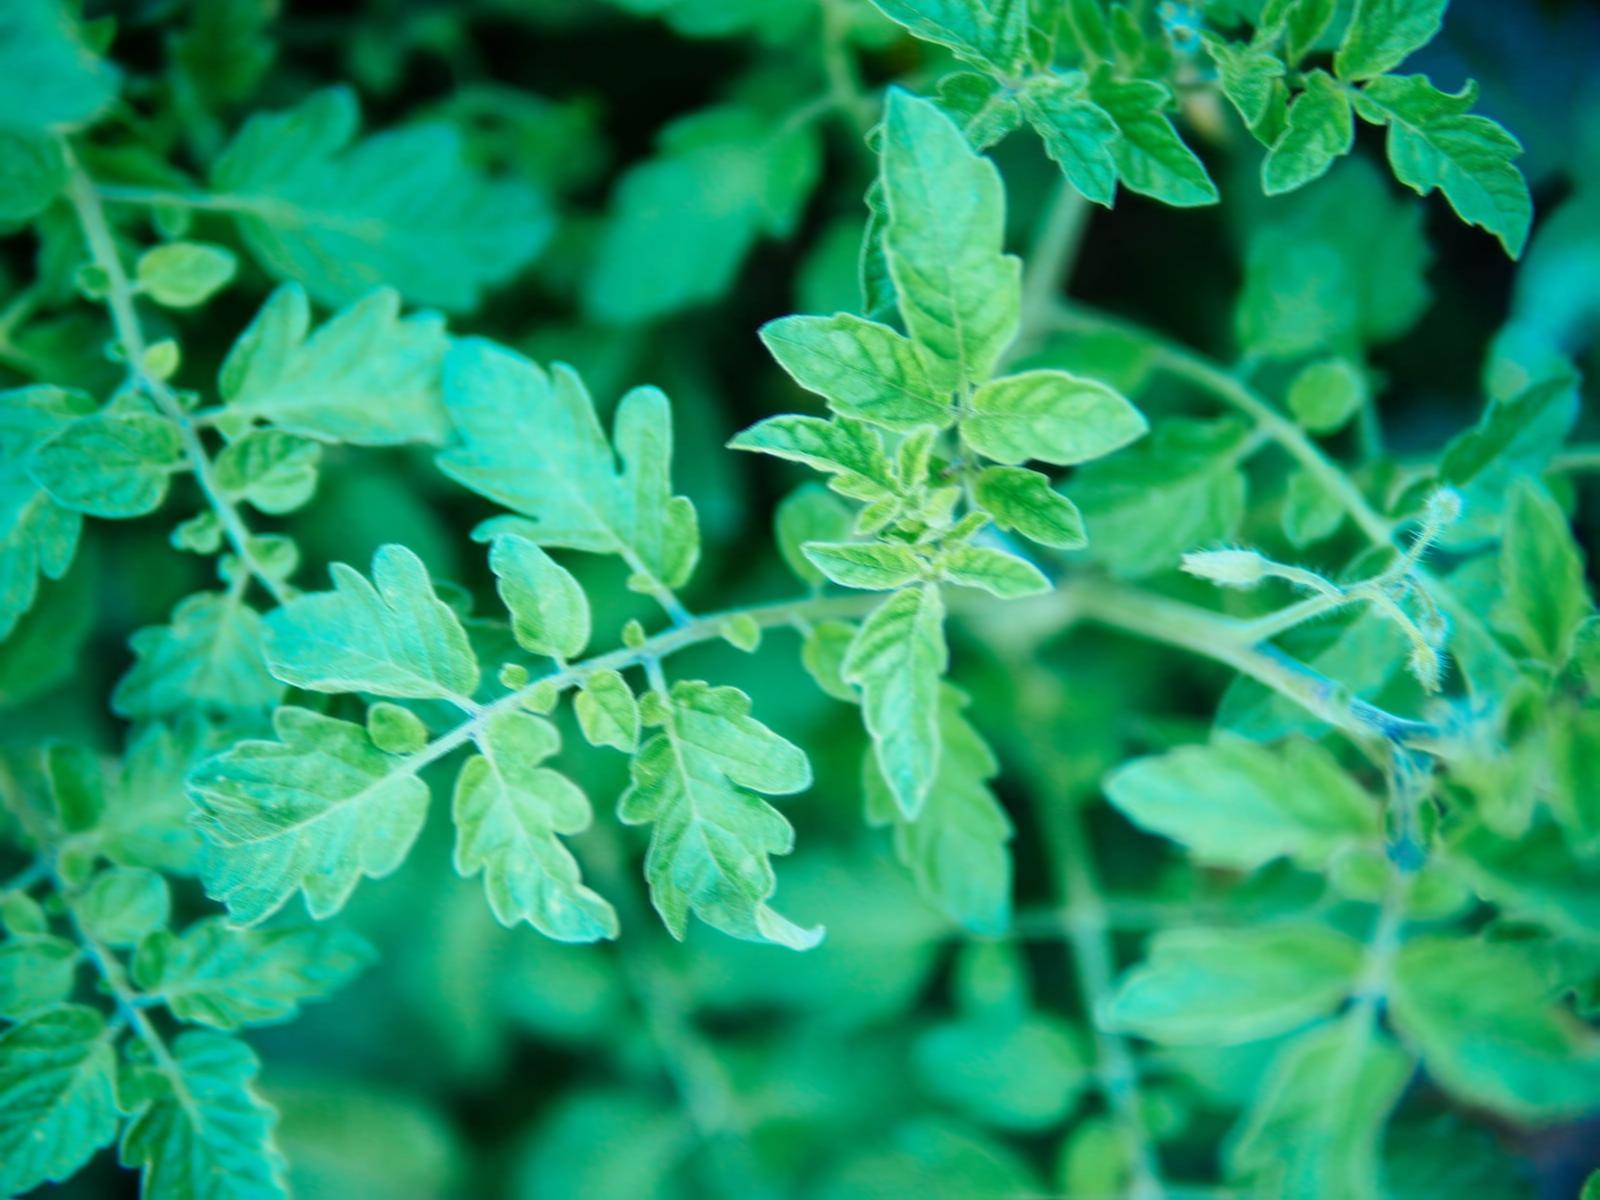Tomato leaf: (444, 330, 706, 620), (619, 662, 825, 977), (183, 703, 436, 936), (891, 81, 1021, 411), (245, 543, 485, 720), (464, 692, 602, 992), (740, 302, 970, 436), (845, 571, 957, 824), (962, 373, 1151, 473)
